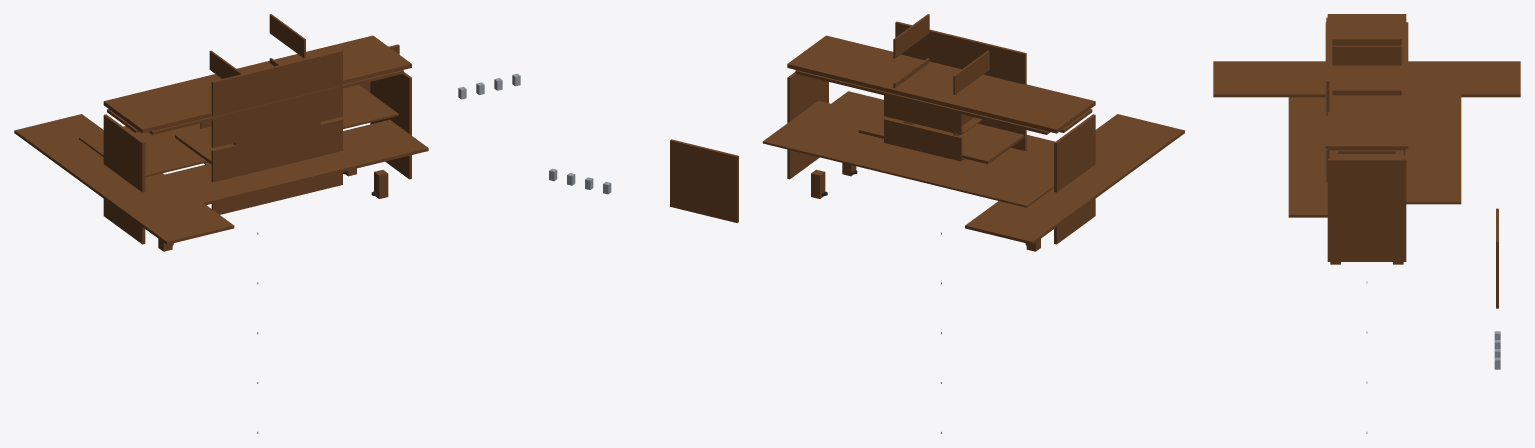
Rendered from Oakley_sideboard.obj.
The picture shows the model from 3 angles, left to right: view 1: azimuth 30°, elevation 25°; view 2: azimuth 150°, elevation 25°; view 3: azimuth 270°, elevation 25°; orthographic projection.
Visible parts, largest first — view 1: carcass.bottom, door_2, shelf.drawer, top, door_1, carcass.back, carcass.side_1, divider.drawer_2, carcass.side_2, shelf.adjustable_1, rail.long_1, divider.drawer_1 (+5 smaller); view 2: carcass.back, top, carcass.bottom, divider.centre, door_2, carcass.side_1, shelf.adjustable_1, shelf.adjustable_2, drawer.back_2, carcass.side_2, drawer.back_3, shelf.drawer (+3 smaller); view 3: top, carcass.side_2, carcass.back, carcass.bottom, shelf.drawer, shelf.adjustable_1, drawer.side_6, drawer.side_5, shelf.adjustable_2, drawer.side_4, door_2, rail.long_2 (+1 smaller).
Boxes of the visible parts, x1,y1,x2,y2 form: carcass.bottom: (14,114,234,244); door_2: (211,50,342,147); shelf.drawer: (165,119,428,204); top: (103,35,411,133); door_1: (211,118,342,214); carcass.back: (79,84,398,177); carcass.side_1: (103,114,145,244); divider.drawer_2: (244,113,311,158); carcass.side_2: (370,72,411,179); shelf.adjustable_1: (176,55,309,111); rail.long_1: (149,70,403,134); divider.drawer_1: (244,145,311,174); carcass.back: (762,100,1053,207); top: (787,35,1095,133); carcass.bottom: (965,114,1184,244); divider.centre: (670,139,738,222); door_2: (895,21,1026,84); carcass.side_1: (1054,114,1095,244); shelf.adjustable_1: (859,55,1022,111); shelf.adjustable_2: (858,111,1024,164); drawer.back_2: (884,118,962,161); carcass.side_2: (787,72,828,179); drawer.back_3: (884,95,962,134); shelf.drawer: (831,91,1054,157); top: (1327,14,1406,150); carcass.side_2: (1327,159,1406,261); carcass.back: (1403,72,1461,204); carcass.bottom: (1213,61,1520,97); shelf.drawer: (1288,97,1330,217); shelf.adjustable_1: (1330,48,1403,111); drawer.side_6: (1332,45,1401,65); drawer.side_5: (1332,38,1401,45); shelf.adjustable_2: (1330,150,1403,158); drawer.side_4: (1332,90,1401,95); door_2: (1326,17,1329,115); rail.long_2: (1406,22,1408,148).
Size of the model in its own units: 3.29 by 2.55 by 1.76.
